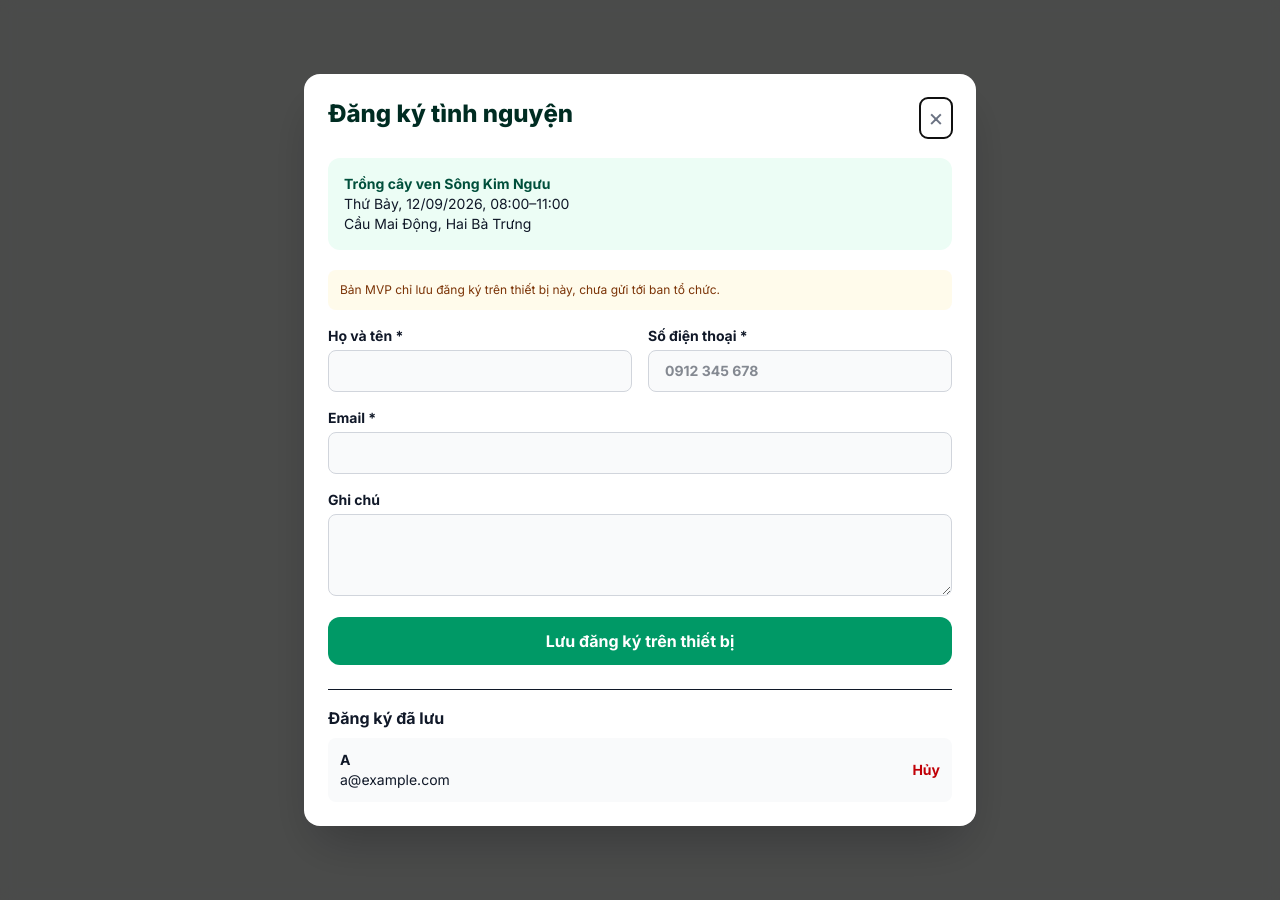
Test case: feature dialogs › blocks a duplicate registration
This screenshot has width=1280, height=900.
Step 1. Type "Nguyễn Văn B" into the field labelled "Họ và tên *" → (480, 371), box x1=328 y1=350 x2=632 y2=392
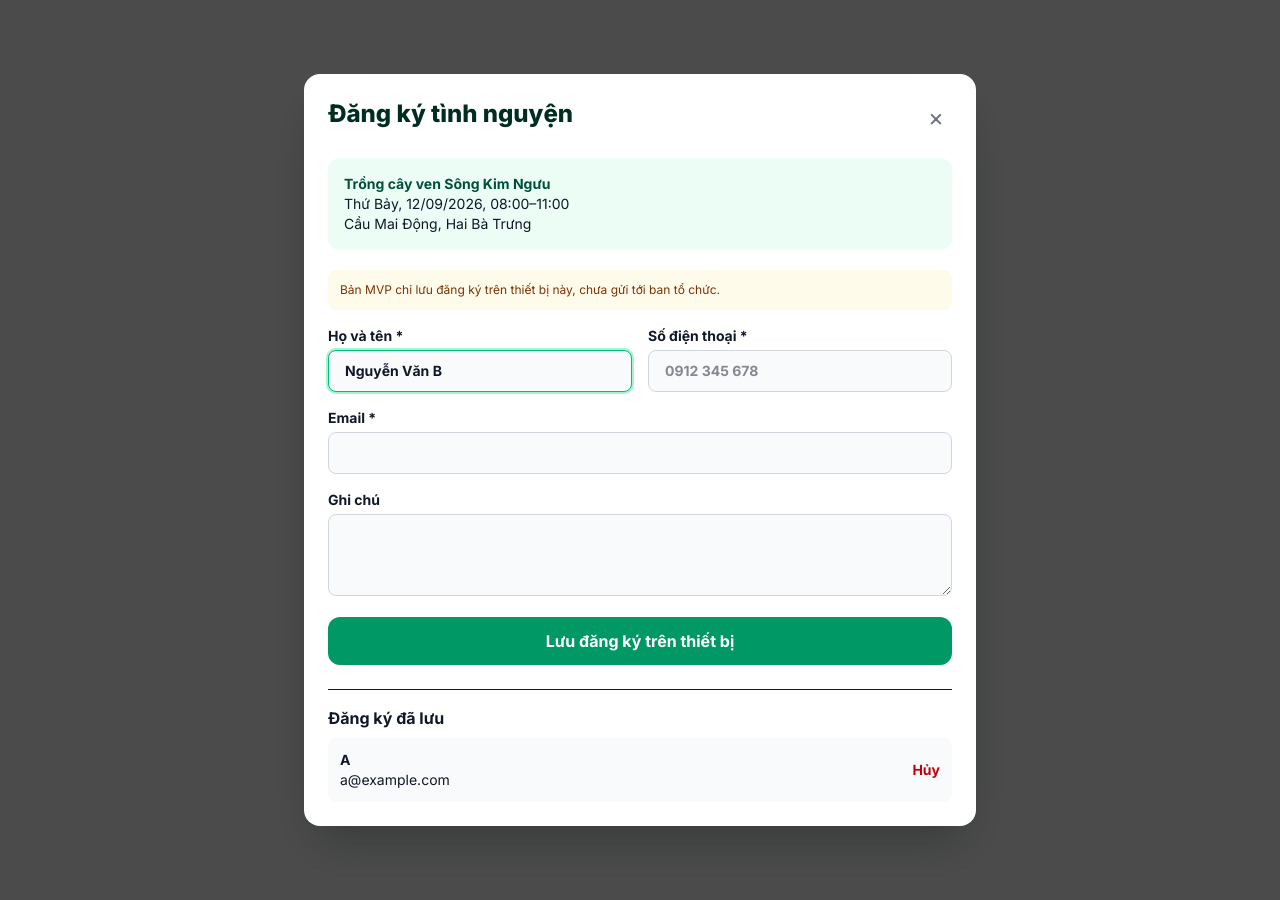
Step 2. Type "0999999999" into the field labelled "Số điện thoại *" → (800, 371), box x1=648 y1=350 x2=952 y2=392
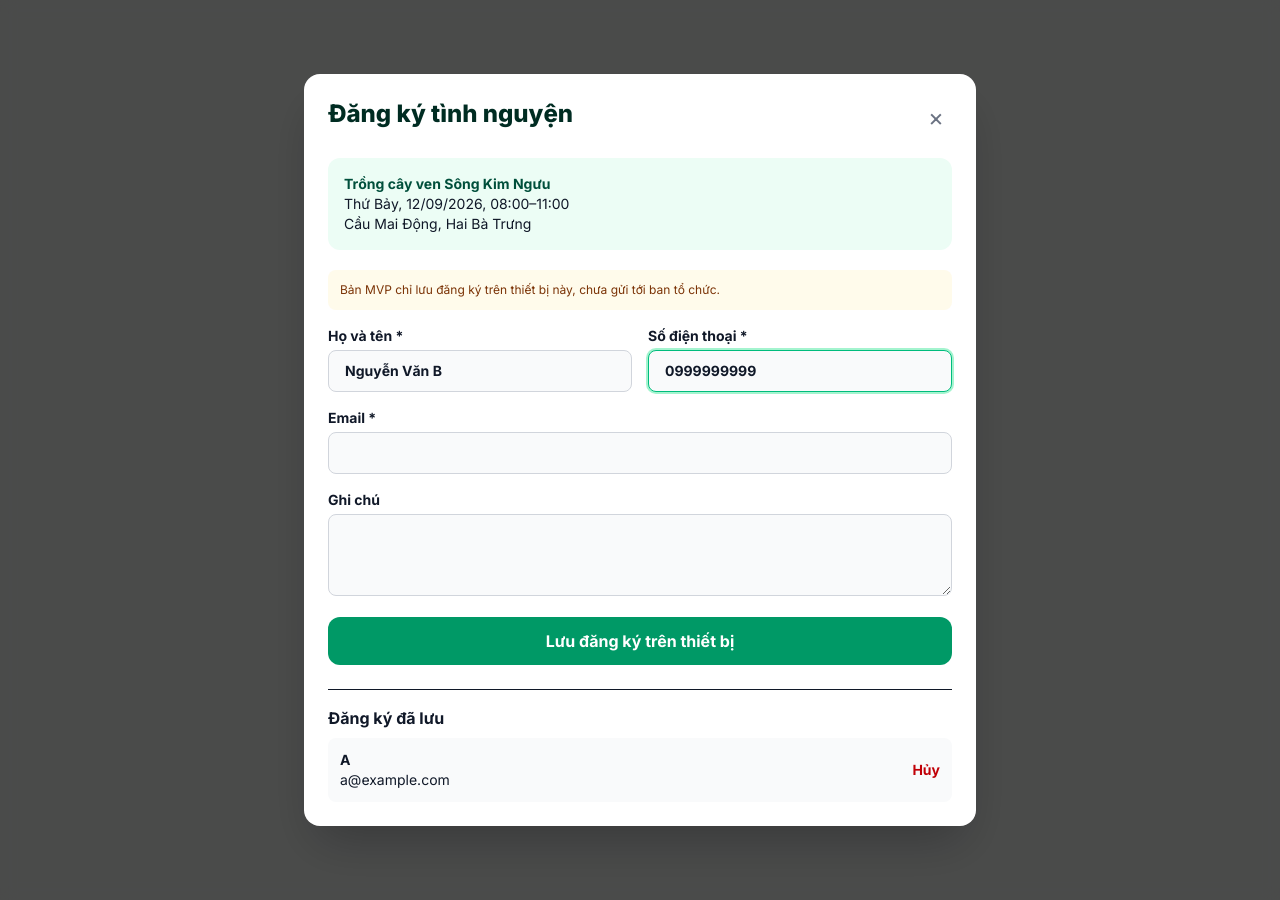
Step 3. Type "A@example.com" into the field labelled "Email *" → (640, 453), box x1=328 y1=432 x2=952 y2=474
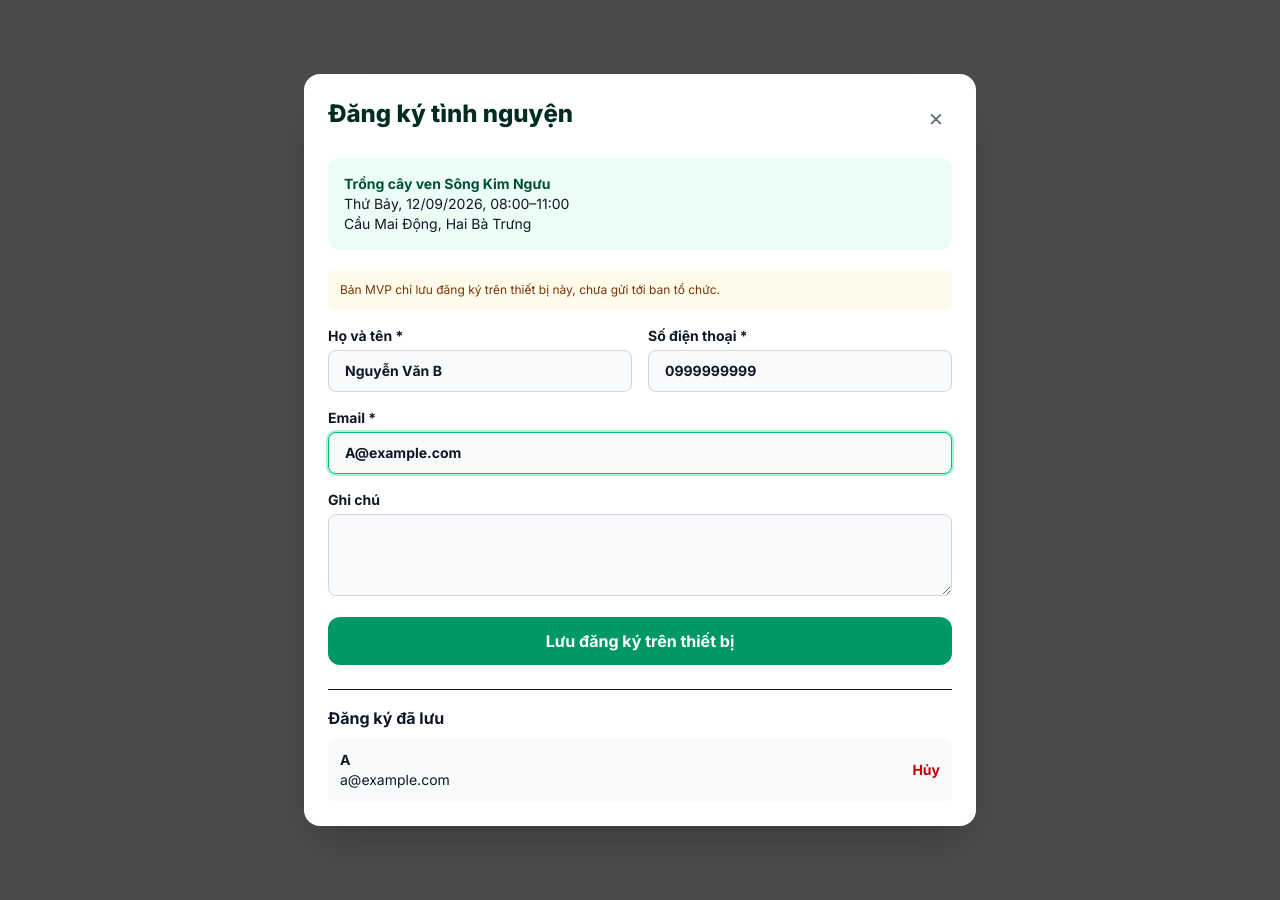
Step 4. Click the button "Lưu đăng ký trên thiết bị" → (640, 641), box x1=328 y1=617 x2=952 y2=665
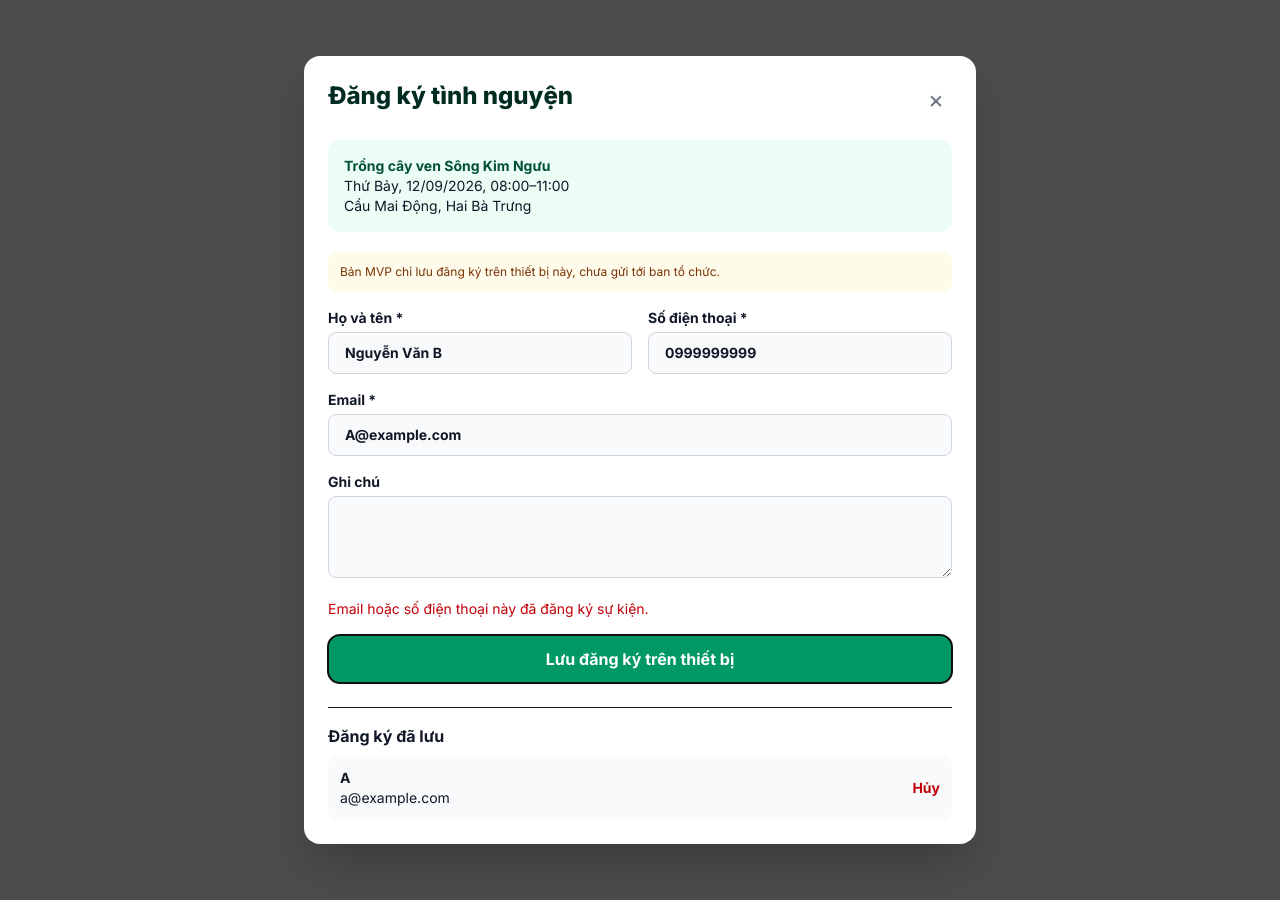
Check: the message shows "đã đăng ký", box x1=328 y1=600 x2=649 y2=617
